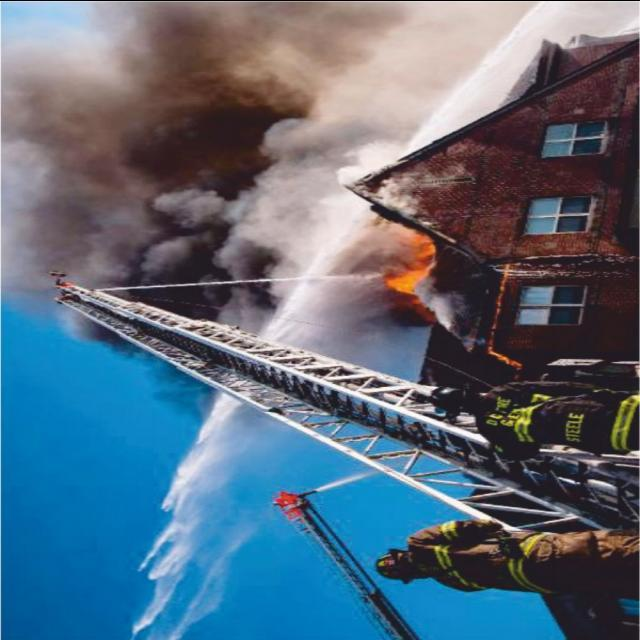Fire: (298, 216, 514, 326)
